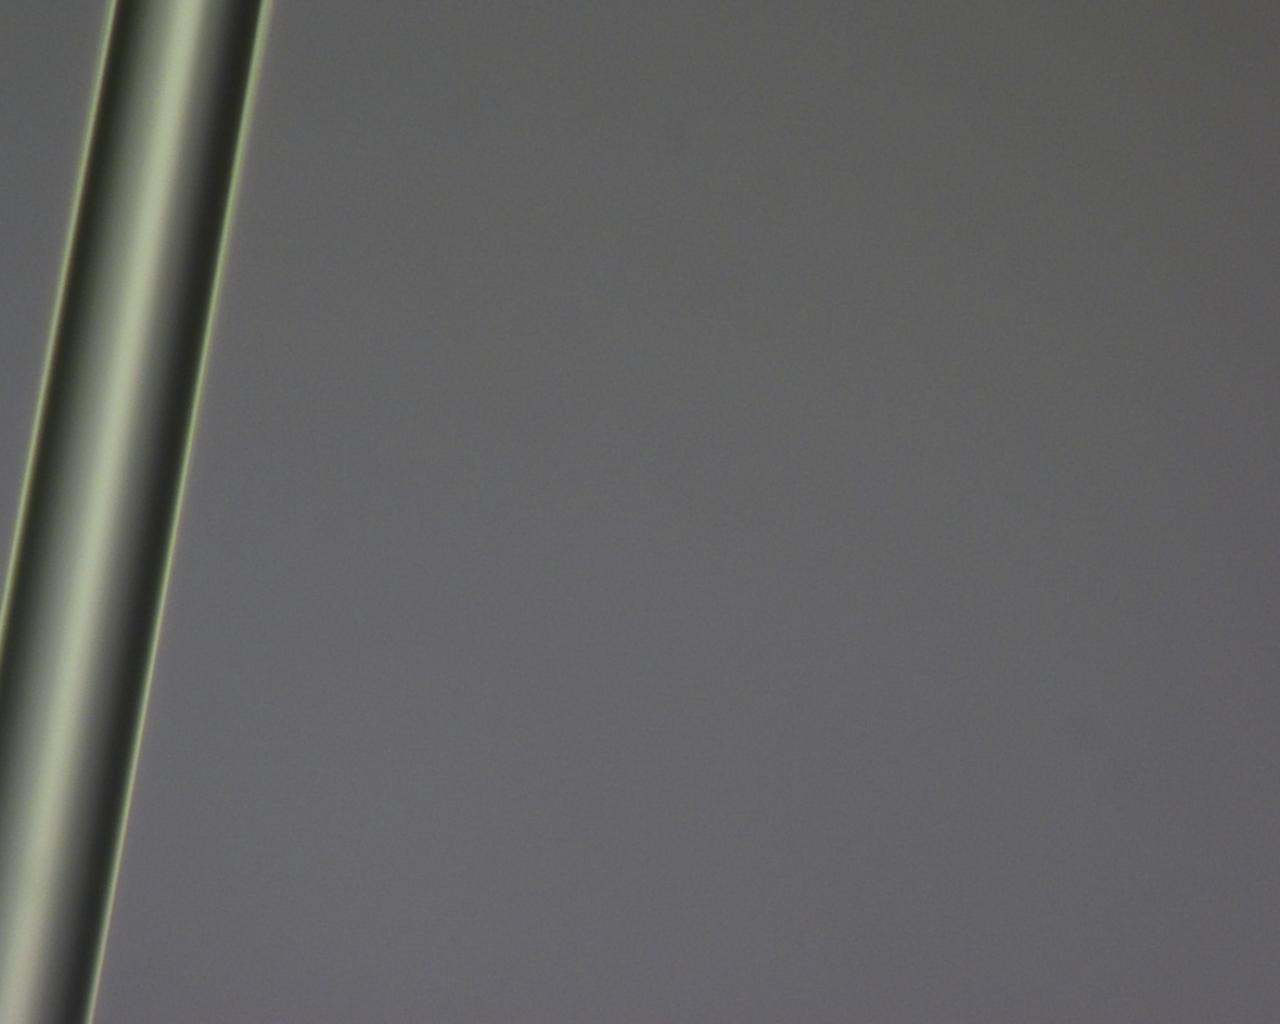fiber: (128, 490, 1152, 606)
